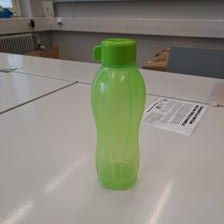bottle: (90, 35, 147, 189)
